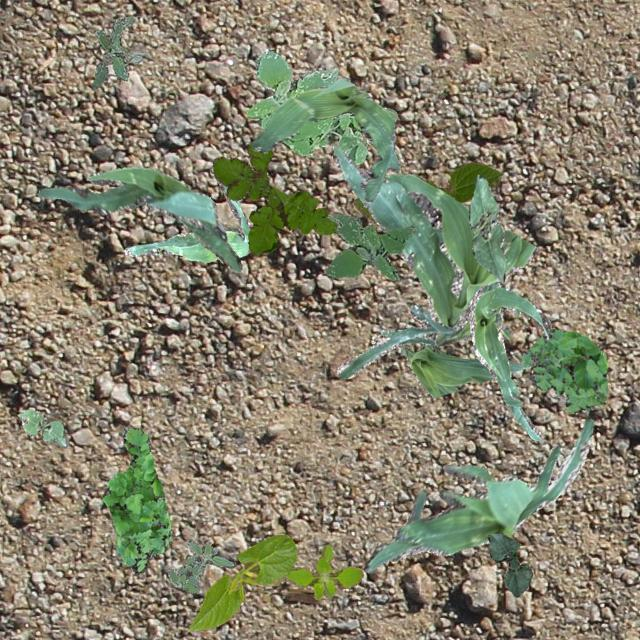crop: (332, 144, 536, 378), (364, 418, 594, 572), (36, 166, 240, 270), (250, 76, 398, 200), (468, 284, 550, 442), (124, 166, 250, 262), (187, 534, 296, 630), (352, 160, 502, 222), (399, 342, 526, 397), (468, 174, 504, 282), (486, 530, 532, 596), (17, 408, 66, 447)
weed: (246, 50, 396, 164), (212, 142, 338, 254), (100, 423, 170, 572), (520, 328, 608, 412), (326, 212, 416, 280), (284, 544, 362, 598), (90, 15, 142, 89), (168, 538, 235, 592)
